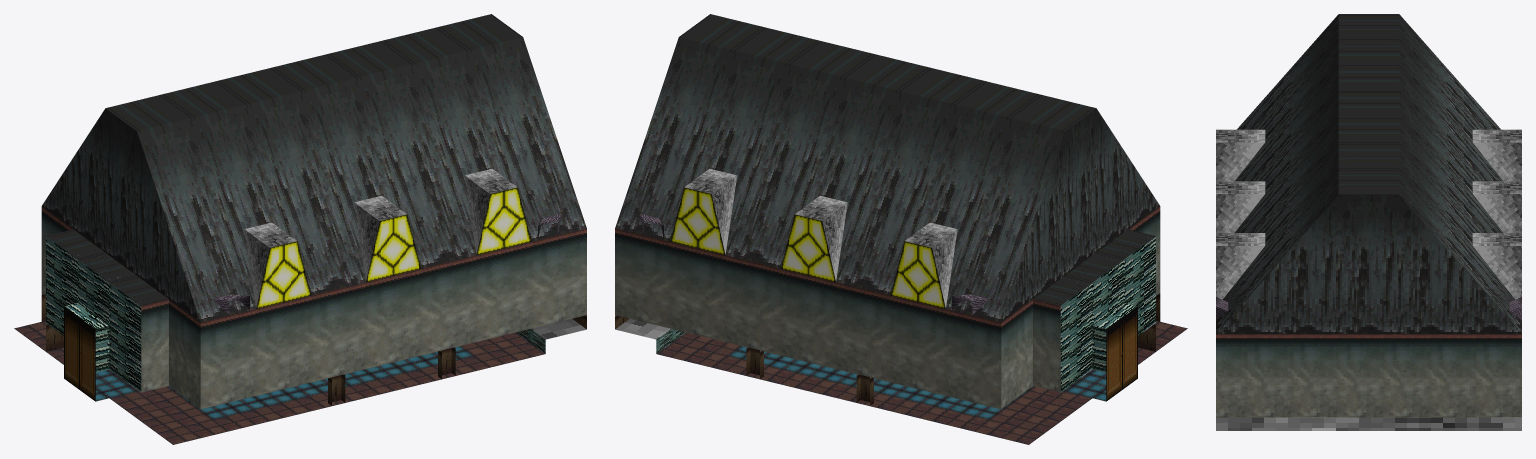
File: StalfosRoom.obj
The picture shows the model from 3 angles, left to right: view 1: azimuth 30°, elevation 25°; view 2: azimuth 150°, elevation 25°; view 3: azimuth 270°, elevation 25°; orthographic projection. The views are drawn at different scales.
Visible parts, largest first — view 1: Shape_IndexedFaceSet.009, Shape_IndexedFaceSet.005, Shape_IndexedFaceSet.006, Shape_IndexedFaceSet.003, Shape_IndexedFaceSet.012, Shape_IndexedFaceSet.013, Shape_IndexedFaceSet.007, Shape_IndexedFaceSet.011, Shape_IndexedFaceSet.004, Shape_IndexedFaceSet.008, Shape_IndexedFaceSet.010; view 2: Shape_IndexedFaceSet.009, Shape_IndexedFaceSet.005, Shape_IndexedFaceSet.006, Shape_IndexedFaceSet.003, Shape_IndexedFaceSet.012, Shape_IndexedFaceSet.013, Shape_IndexedFaceSet.007, Shape_IndexedFaceSet.011, Shape_IndexedFaceSet.004, Shape_IndexedFaceSet.008, Shape_IndexedFaceSet.010; view 3: Shape_IndexedFaceSet.009, Shape_IndexedFaceSet.005, Shape_IndexedFaceSet.013, Shape_IndexedFaceSet.008, Shape_IndexedFaceSet.010.
Boxes of the visible parts, x1,y1,x2,y2 form: Shape_IndexedFaceSet.009: [42, 14, 586, 322]; Shape_IndexedFaceSet.005: [41, 206, 586, 409]; Shape_IndexedFaceSet.006: [14, 321, 544, 444]; Shape_IndexedFaceSet.003: [46, 236, 545, 392]; Shape_IndexedFaceSet.012: [256, 187, 531, 308]; Shape_IndexedFaceSet.013: [244, 168, 517, 308]; Shape_IndexedFaceSet.007: [95, 346, 473, 419]; Shape_IndexedFaceSet.011: [64, 306, 95, 401]; Shape_IndexedFaceSet.004: [41, 293, 586, 405]; Shape_IndexedFaceSet.008: [531, 319, 586, 339]; Shape_IndexedFaceSet.010: [212, 213, 562, 314]; Shape_IndexedFaceSet.009: [615, 14, 1159, 322]; Shape_IndexedFaceSet.005: [615, 206, 1160, 409]; Shape_IndexedFaceSet.006: [657, 321, 1187, 444]; Shape_IndexedFaceSet.003: [656, 236, 1155, 392]; Shape_IndexedFaceSet.012: [670, 187, 945, 308]; Shape_IndexedFaceSet.013: [684, 168, 957, 308]; Shape_IndexedFaceSet.007: [728, 346, 1106, 419]; Shape_IndexedFaceSet.011: [1106, 306, 1137, 401]; Shape_IndexedFaceSet.004: [615, 293, 1160, 405]; Shape_IndexedFaceSet.008: [615, 319, 670, 339]; Shape_IndexedFaceSet.010: [639, 213, 989, 314]; Shape_IndexedFaceSet.009: [1216, 14, 1521, 333]; Shape_IndexedFaceSet.005: [1216, 334, 1521, 417]; Shape_IndexedFaceSet.013: [1216, 129, 1521, 299]; Shape_IndexedFaceSet.008: [1216, 417, 1521, 430]; Shape_IndexedFaceSet.010: [1216, 297, 1521, 319].
Size of what is drawn, in the model's own units: 9.04 by 5.26 by 5.83.
